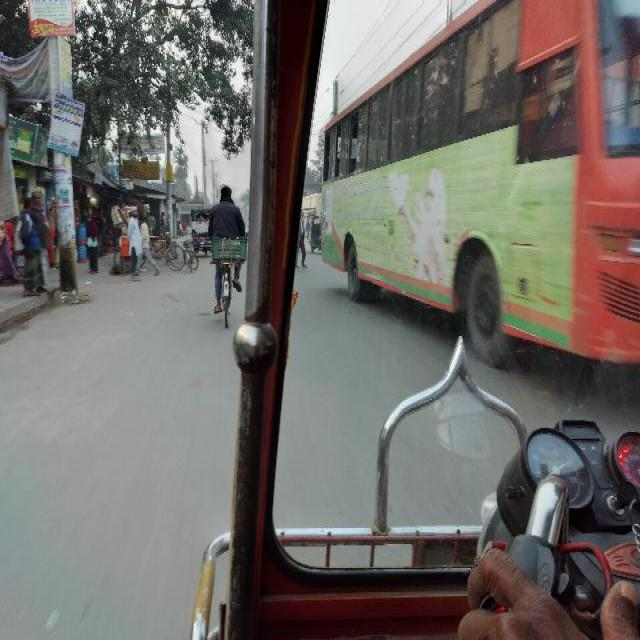auto rickshaw: (188, 206, 214, 255), (308, 214, 324, 254)
bicycle: (208, 185, 246, 335), (182, 232, 200, 275)
bus: (320, 1, 640, 378)
rickshaw: (110, 205, 186, 272)
